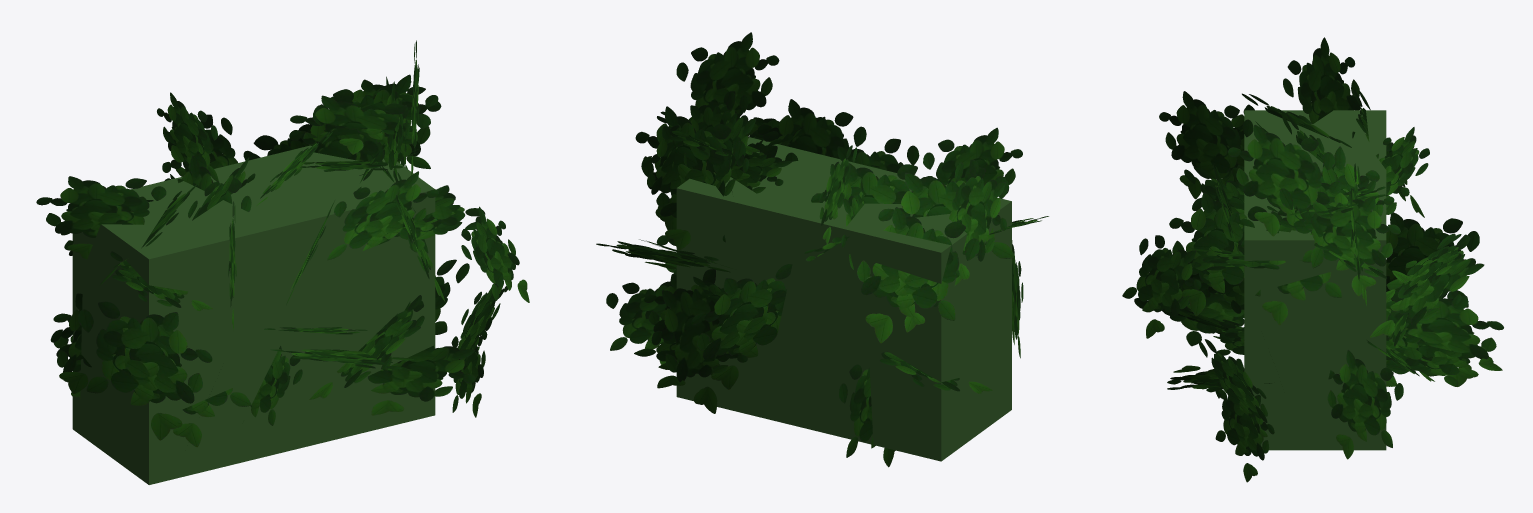
Rendered from getkong-hhhecke2.glb.
3 views of the same model, side by side, from view 1: azimuth 30°, elevation 25°; view 2: azimuth 150°, elevation 25°; view 3: azimuth 270°, elevation 25° (orthographic). The views are drawn at different scales.
Visible parts, largest first — view 1: hecke2; view 2: hecke2; view 3: hecke2.
Part boxes in pixels (x1,y1,x2,y2): hecke2: (36,40,529,484); hecke2: (596,32,1048,467); hecke2: (1122,37,1503,482).
Bounding box in the file's own units: 2.06 × 1.69 × 1.76.
2 materials, 1 textured.
